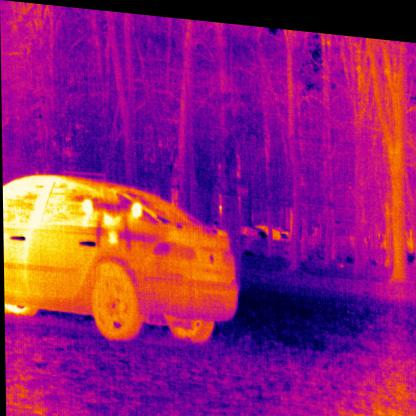drone: (82, 193, 141, 248)
